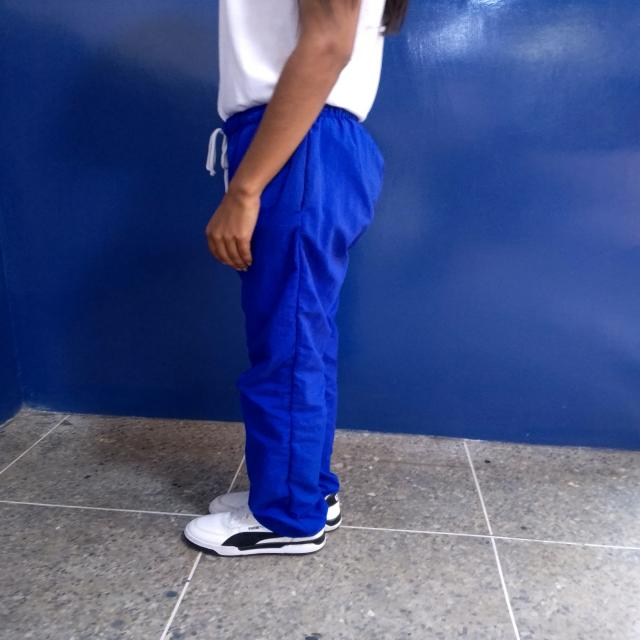uniforme_superior: (219, 103, 387, 540)
